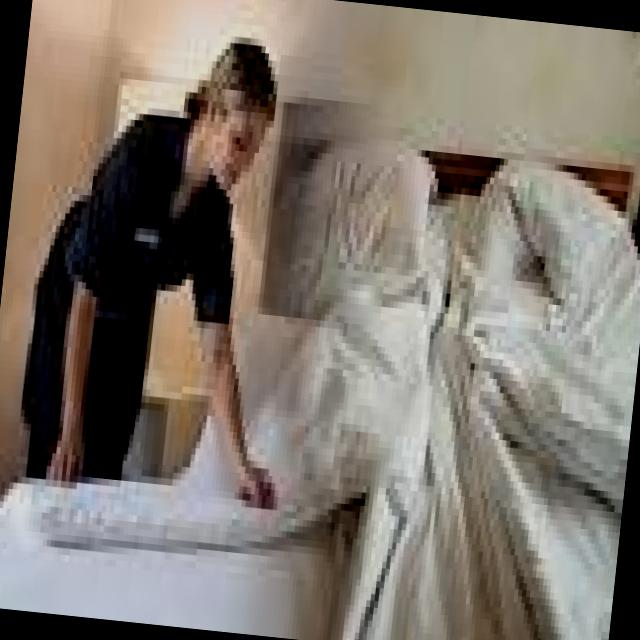mess: (231, 168, 640, 640)
